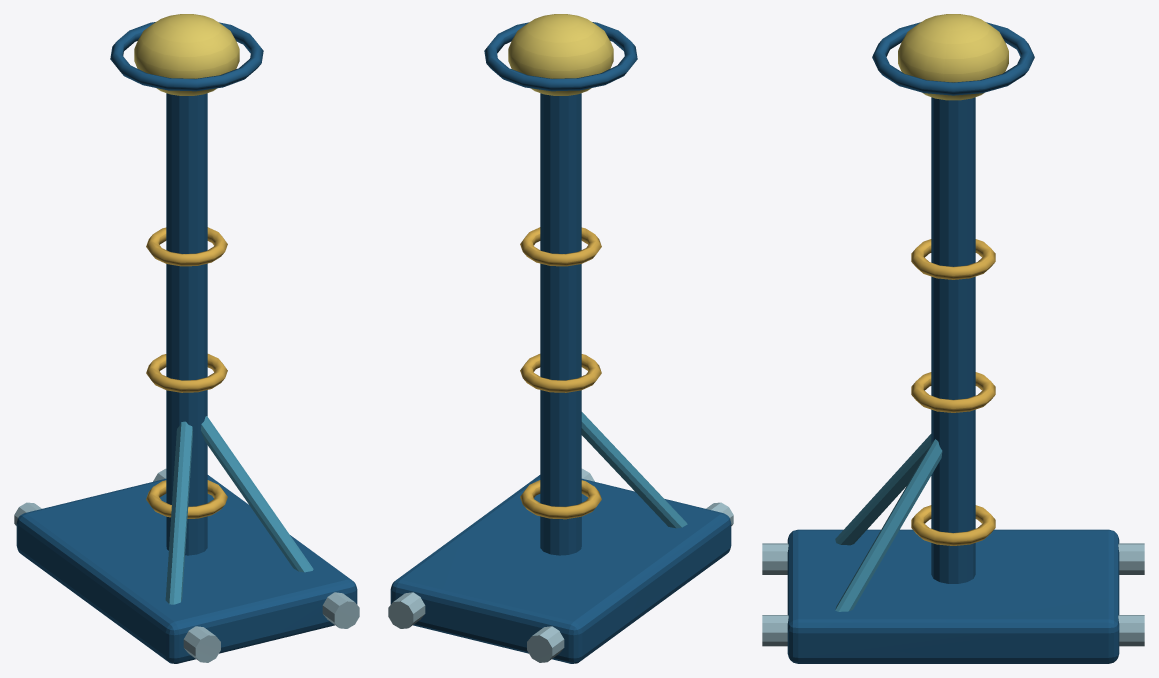
Rendered from glacier_route_beacon_v1.glb.
The picture shows the model from 3 angles, left to right: view 1: azimuth 30°, elevation 25°; view 2: azimuth 150°, elevation 25°; view 3: azimuth 270°, elevation 25°; orthographic projection. The views are drawn at different scales.
Parts seen in each view (by area): view 1: glacier_route_beacon_v1; view 2: glacier_route_beacon_v1; view 3: glacier_route_beacon_v1.
Part boxes in pixels (bbox=[...]): glacier_route_beacon_v1: bbox=[14, 14, 359, 663]; glacier_route_beacon_v1: bbox=[388, 14, 733, 663]; glacier_route_beacon_v1: bbox=[762, 14, 1144, 663].
Bounding box in the file's own units: 1.15 × 3.28 × 1.9.
